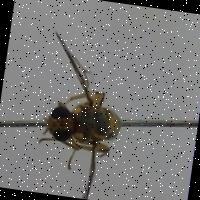Oriental-fruit-fly: (18, 30, 136, 200)
